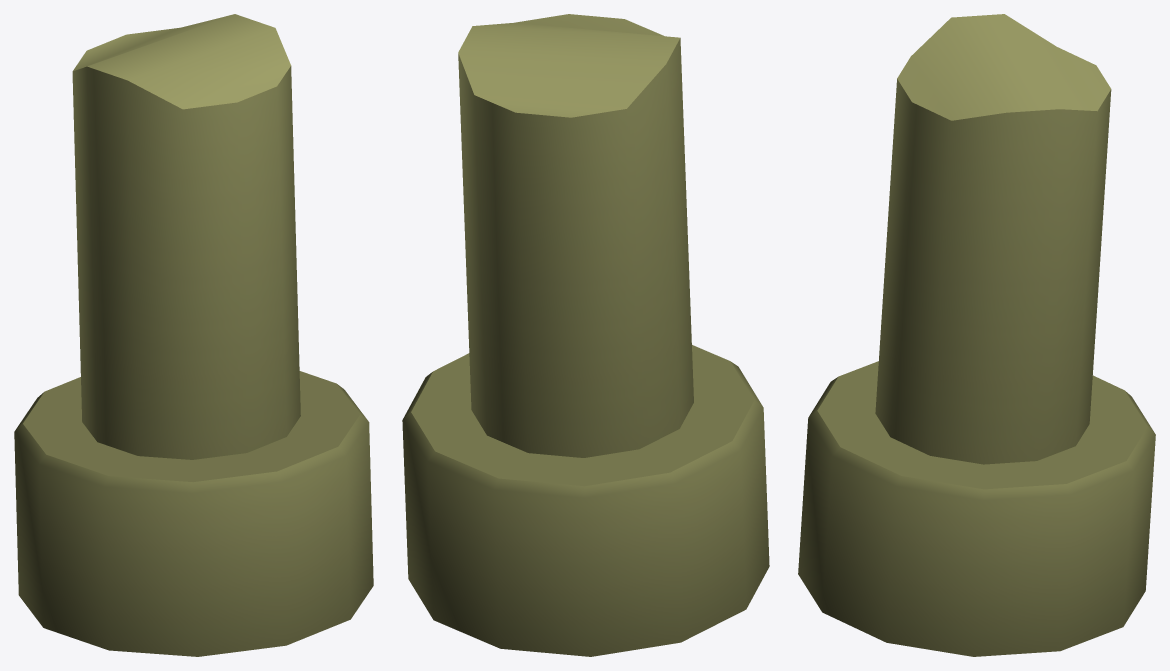
The picture shows the model from 3 angles, left to right: view 1: azimuth 30°, elevation 25°; view 2: azimuth 150°, elevation 25°; view 3: azimuth 270°, elevation 25°; orthographic projection. The views are drawn at different scales.
Parts seen in each view (by area): view 1: Cube.055; view 2: Cube.055; view 3: Cube.055.
Part boxes in pixels (box(x1,y1,x2,y2)): Cube.055: box(14, 14, 373, 656); Cube.055: box(402, 14, 769, 656); Cube.055: box(798, 14, 1155, 656).
Bounding box in the file's own units: 2 × 3.4 × 2.05.
